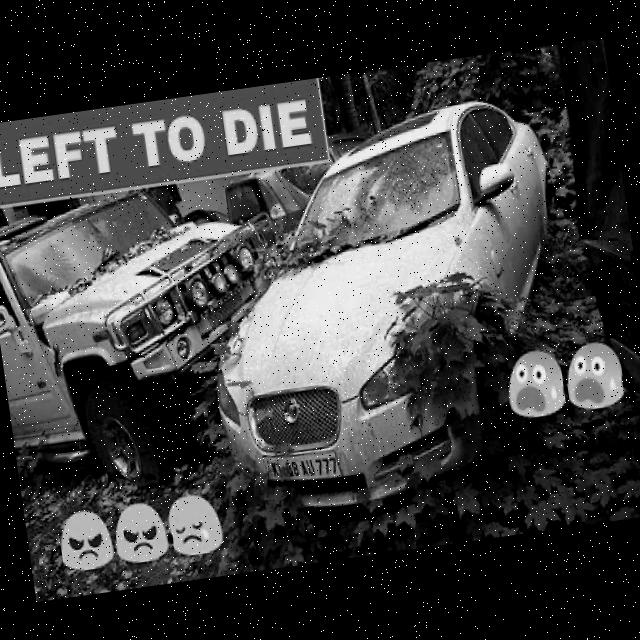Autre: (262, 449, 344, 488)
